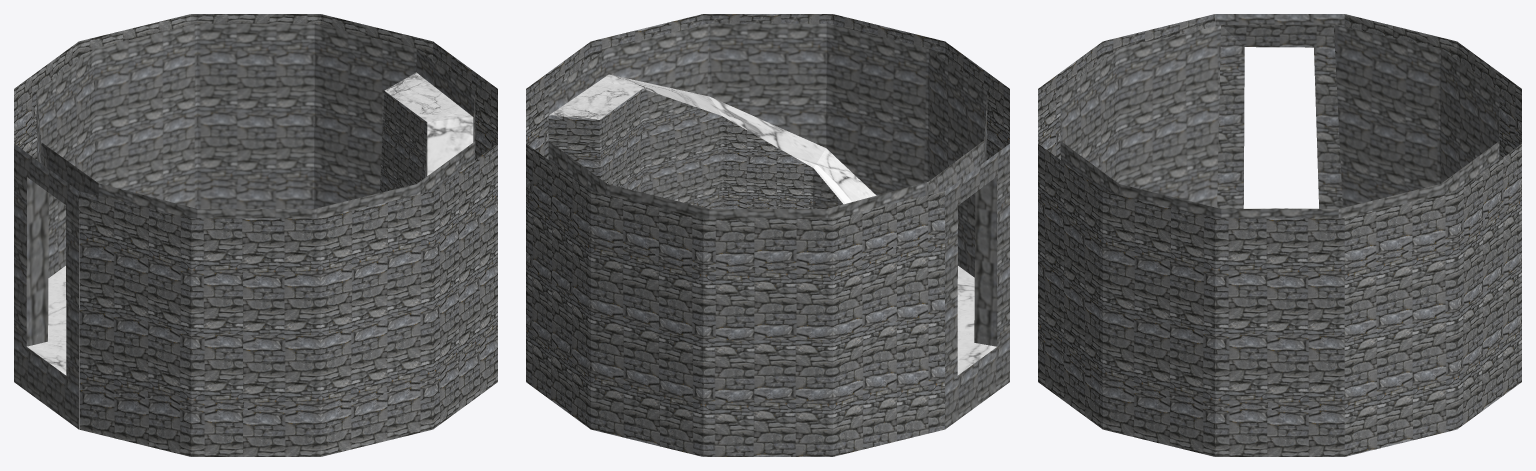
Rendered from tower_first_floor_2.fbx.
3 renders of one model, left to right at view 1: azimuth 30°, elevation 25°; view 2: azimuth 150°, elevation 25°; view 3: azimuth 270°, elevation 25°, orthographic.
Parts seen in each view (by area): view 1: 000_floor; view 2: 000_floor; view 3: 000_floor.
Part boxes in pixels (left/top/right/bottom): 000_floor: left=14, top=14, right=497, bottom=456; 000_floor: left=526, top=14, right=1009, bottom=456; 000_floor: left=1038, top=14, right=1521, bottom=456.
Bounding box in the file's own units: 6182 × 3364 × 6182.
1 material, 1 textured.
